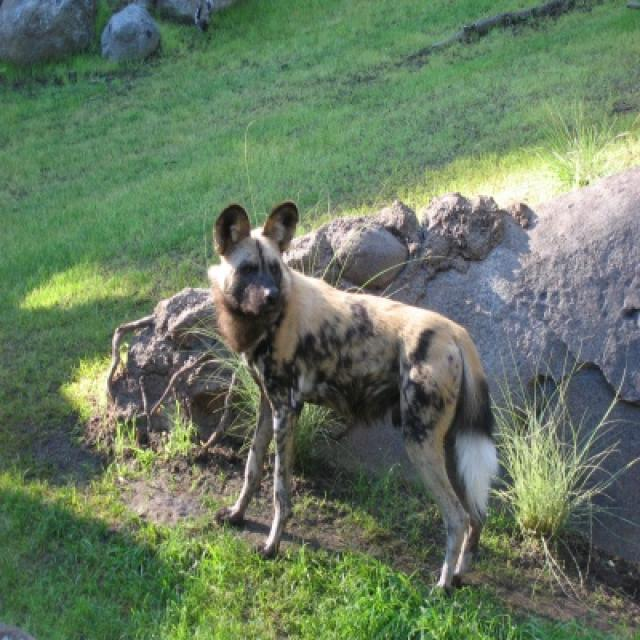hyena: (205, 202, 499, 597)
